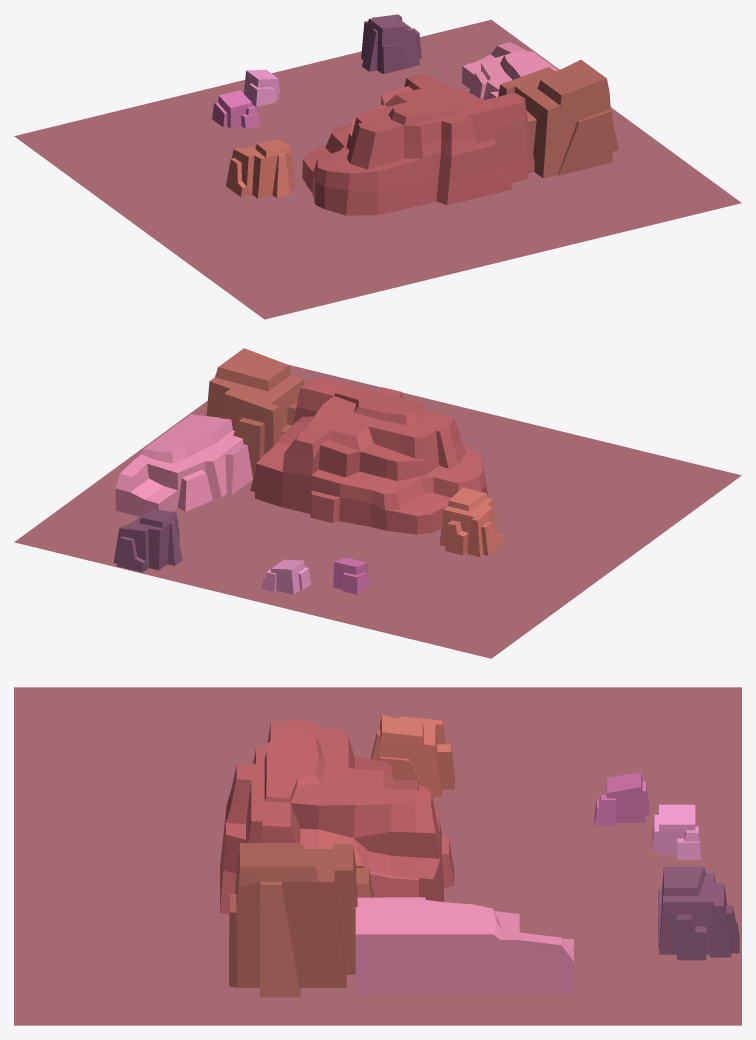
File: GroundPlaceholder.fbx
3 renders of one model, top to bottom at view 1: azimuth 30°, elevation 25°; view 2: azimuth 150°, elevation 25°; view 3: azimuth 270°, elevation 25°, orthographic. The views are drawn at different scales.
Visible parts, largest first — view 1: GroundPlane, Rock3, pasted__Rock3, pasted__Rock1, Rock1, Rock4, Rock2, pasted__Rock2; view 2: GroundPlane, Rock3, Rock4, pasted__Rock3, Rock1, pasted__Rock1, pasted__Rock2, Rock2; view 3: GroundPlane, Rock3, pasted__Rock3, Rock4, Rock1, pasted__Rock1, pasted__Rock2, Rock2.
Boxes of the visible parts, x1,y1,x2,y2 form: GroundPlane: [14, 19, 741, 319]; Rock3: [302, 74, 534, 215]; pasted__Rock3: [498, 59, 618, 178]; pasted__Rock1: [226, 139, 294, 198]; Rock1: [361, 14, 421, 73]; Rock4: [462, 42, 557, 99]; Rock2: [212, 90, 259, 128]; pasted__Rock2: [244, 69, 279, 106]; GroundPlane: [14, 364, 741, 658]; Rock3: [250, 377, 487, 534]; Rock4: [115, 414, 252, 516]; pasted__Rock3: [206, 348, 304, 478]; Rock1: [113, 509, 182, 572]; pasted__Rock1: [439, 487, 503, 556]; pasted__Rock2: [261, 559, 310, 594]; Rock2: [333, 557, 368, 594]; GroundPlane: [14, 687, 741, 1025]; Rock3: [220, 719, 454, 914]; pasted__Rock3: [229, 843, 374, 997]; Rock4: [355, 897, 573, 994]; Rock1: [658, 866, 739, 960]; pasted__Rock1: [370, 715, 454, 797]; pasted__Rock2: [652, 804, 701, 859]; Rock2: [594, 772, 648, 825].
Bounding box in the file's own units: 55 × 9.01 × 50.
